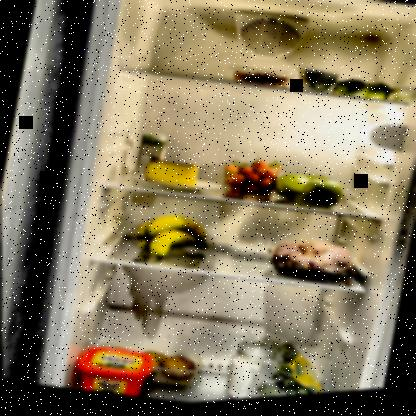apple: (270, 167, 348, 219)
butter: (72, 341, 150, 401)
cheese: (141, 156, 202, 197)
chicken: (261, 232, 361, 298)
heavy_cream: (133, 132, 169, 184)
lime: (130, 209, 213, 271), (334, 79, 392, 110)
potato: (140, 345, 203, 390)
shrimp: (235, 69, 295, 98)
spinach: (246, 343, 350, 401)
strawberries: (214, 153, 286, 206)
